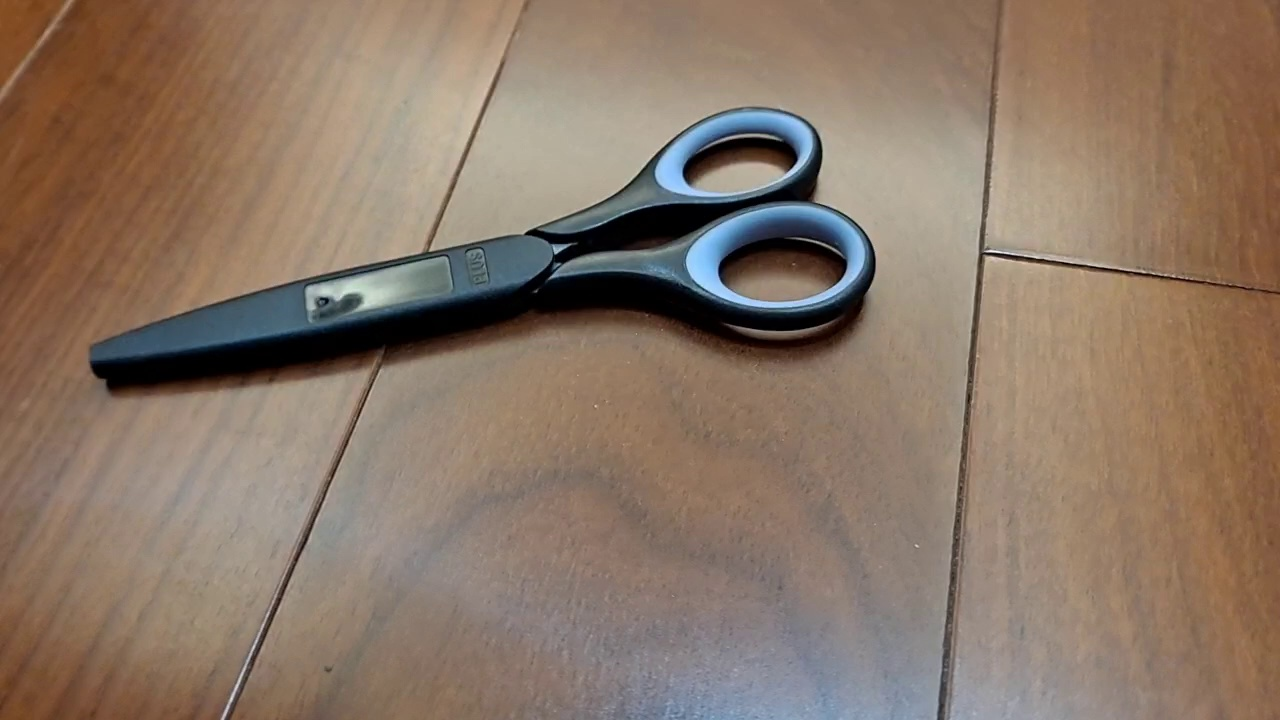scissors: (88, 103, 878, 394)
